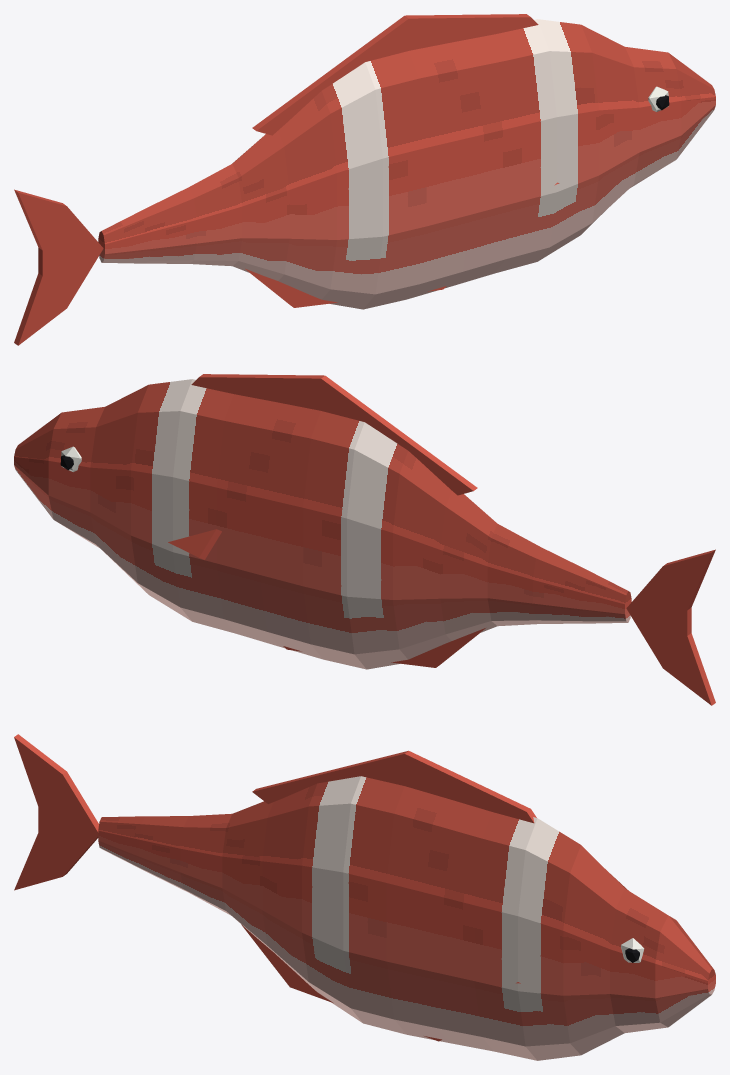
The model's file is red_emperor.glb.
The picture shows the model from 3 angles, top to bottom: view 1: azimuth 30°, elevation 25°; view 2: azimuth 150°, elevation 25°; view 3: azimuth 330°, elevation 25°; orthographic projection.
Visible parts, largest first — view 1: fish_red_emperor; view 2: fish_red_emperor; view 3: fish_red_emperor.
Part boxes in pixels (box(x1,y1,x2,y2)): fish_red_emperor: box(14, 14, 715, 345); fish_red_emperor: box(14, 374, 715, 705); fish_red_emperor: box(14, 734, 715, 1060).
Bounding box in the file's own units: 1.14 × 0.4423 × 0.1417.
Materials: 4 (1 with a texture image).
